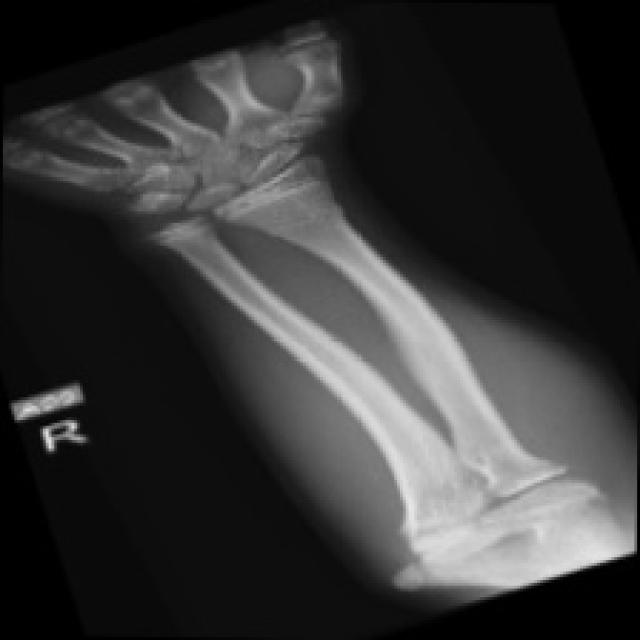fracture: (356, 268, 494, 416)
